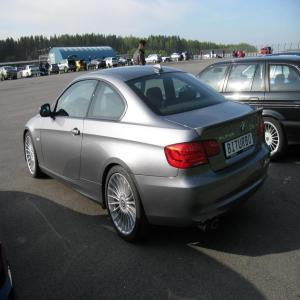Vehicle-registration-plate: (226, 133, 255, 158)
